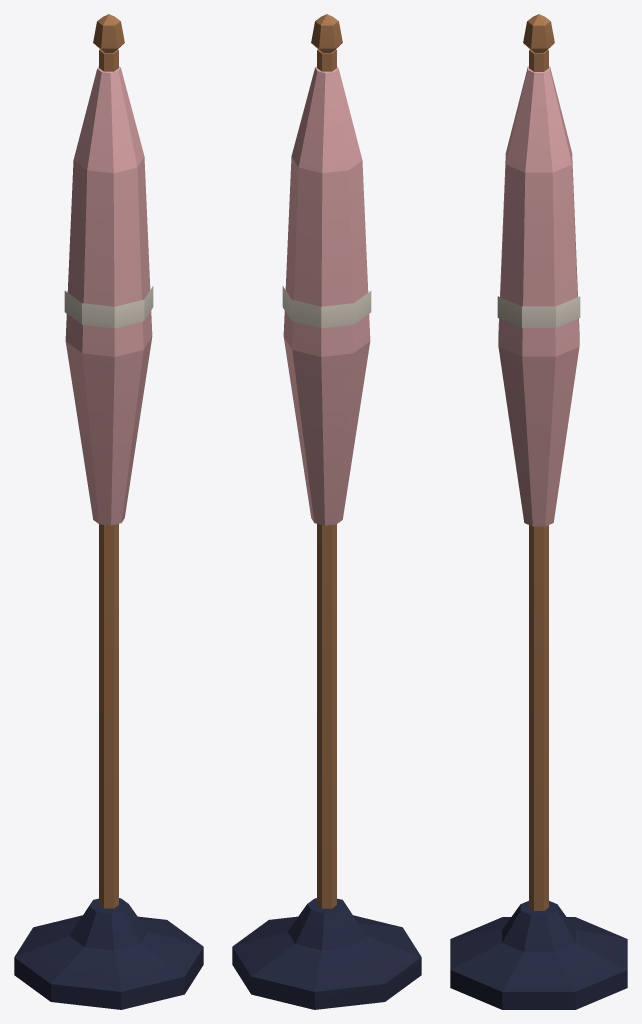
Rendered from parasol_closed.glb.
The picture shows the model from 3 angles, left to right: view 1: azimuth 30°, elevation 25°; view 2: azimuth 150°, elevation 25°; view 3: azimuth 270°, elevation 25°; orthographic projection.
Visible parts, largest first — view 1: parasol; view 2: parasol; view 3: parasol.
Part boxes in pixels (x1,y1,x2,y2): parasol: [14, 14, 203, 1009]; parasol: [232, 14, 421, 1009]; parasol: [450, 14, 627, 1009].
Bounding box in the file's own units: 0.4435 × 2.65 × 0.4435.
1 material, 1 textured.
